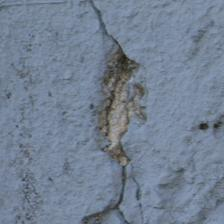Crack: (0, 30, 110, 90), (57, 85, 110, 139), (38, 58, 103, 91)
